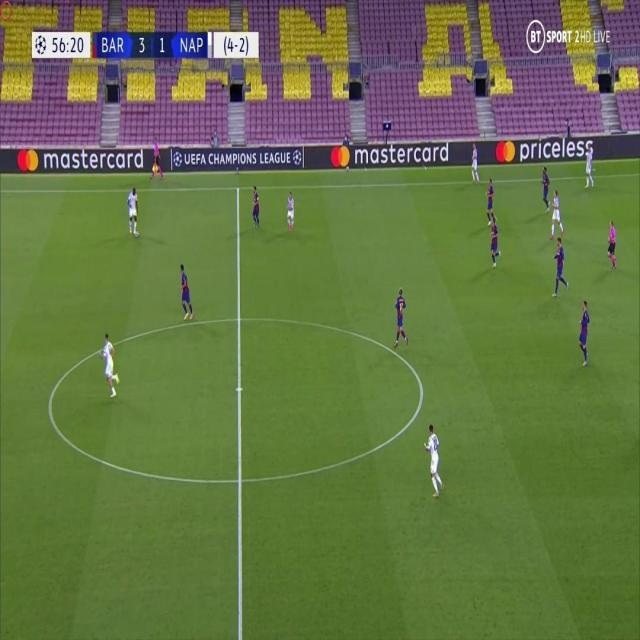ball: (134, 228, 141, 241)
player: (422, 422, 444, 498), (99, 329, 119, 398), (576, 296, 593, 368), (551, 237, 570, 299), (177, 261, 196, 322), (392, 286, 410, 348), (549, 189, 565, 241), (126, 184, 140, 237), (488, 217, 502, 270), (483, 176, 497, 225), (584, 143, 597, 187), (250, 183, 262, 229), (539, 164, 550, 210), (470, 141, 482, 183), (286, 188, 296, 232)
referee: (150, 135, 164, 182), (606, 216, 618, 270)
